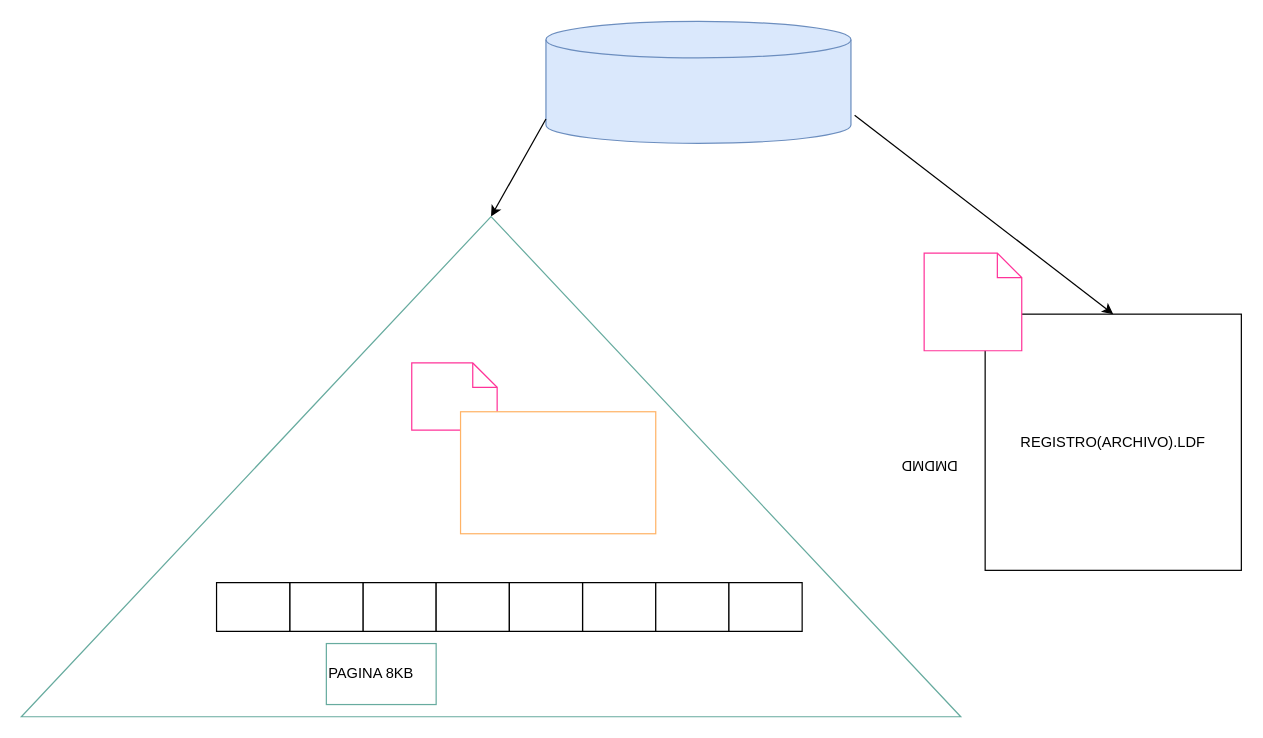
Some shapes in this 1263 by 738 pixel diagram are drawn without their labels. The centre of each missing label's shape, as x and y in pixels:
"BASE DE DATOS" goes at [698,81].
"DATOS (ARCHIVO).MDF" goes at [557,472].
